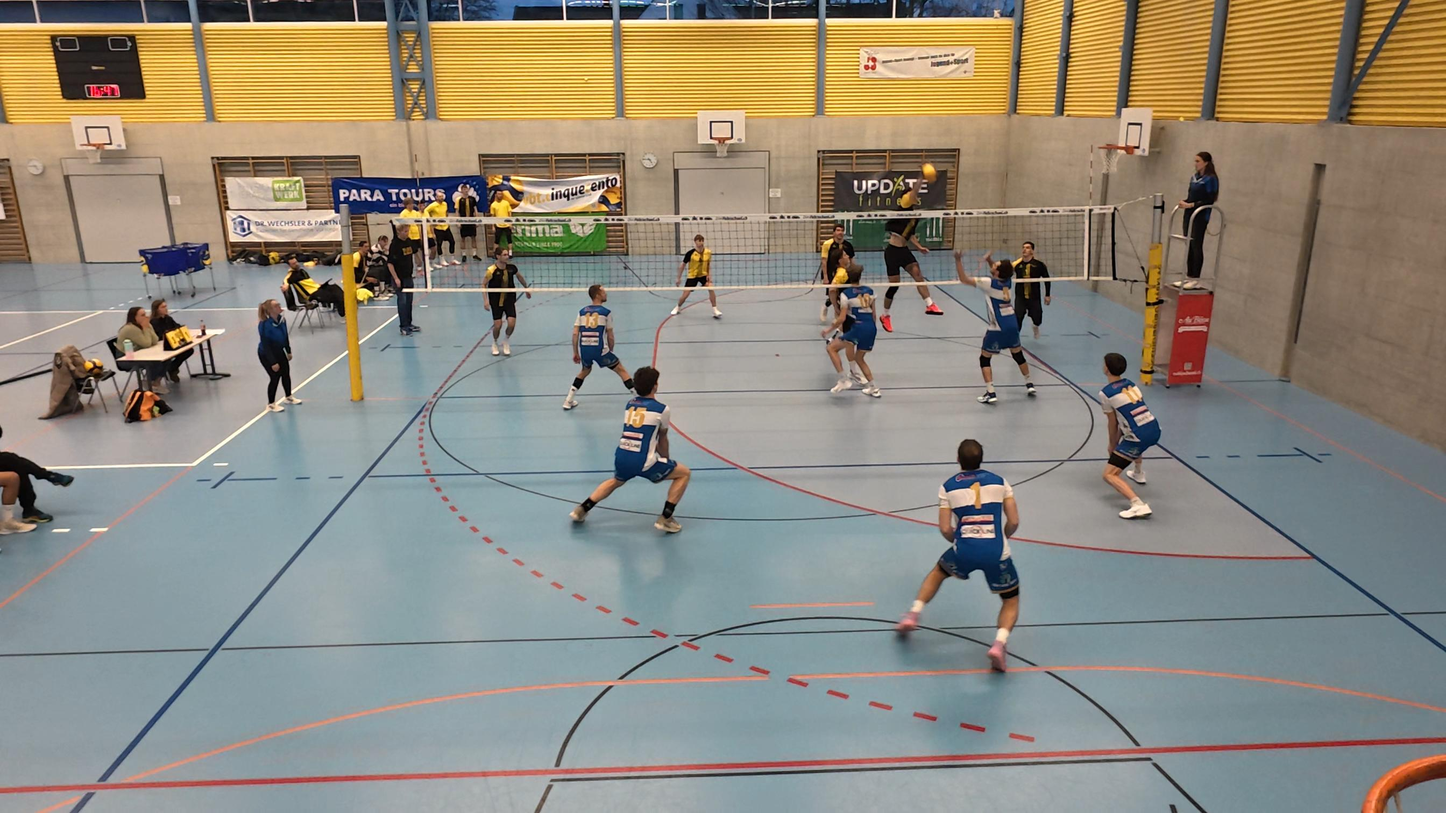Attack: (877, 159, 946, 335)
Player: (896, 439, 1022, 673), (570, 367, 687, 536), (1097, 352, 1161, 517), (972, 260, 1039, 406), (563, 284, 629, 411), (826, 269, 887, 401), (1012, 240, 1055, 363), (671, 235, 723, 320), (486, 249, 526, 356), (817, 226, 856, 328), (821, 243, 853, 309)
ball: (918, 163, 935, 176)
